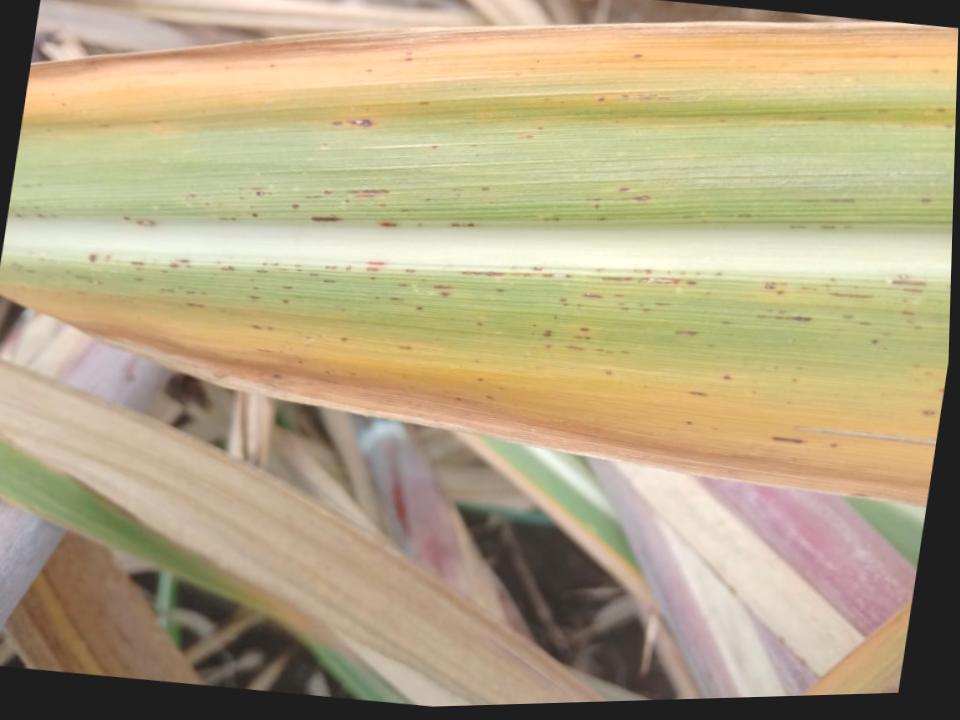Rust: (431, 261, 942, 365), (6, 250, 437, 313), (116, 183, 504, 231), (540, 178, 660, 224), (321, 115, 383, 133)
Yellow: (0, 266, 945, 505), (22, 21, 958, 149)
